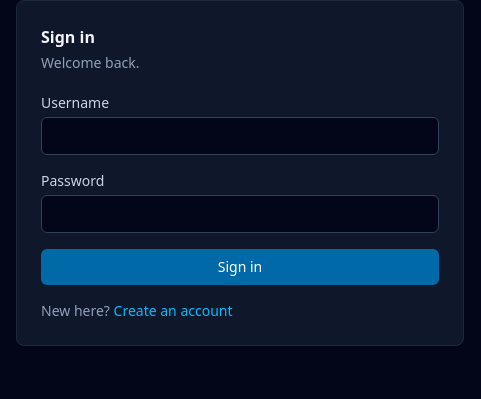
Scenario: AuthScreen › shows a server-unreachable error when the request throws
Type "alice" into the field labelled "Username" at (240,136), box [41,117,439,155]
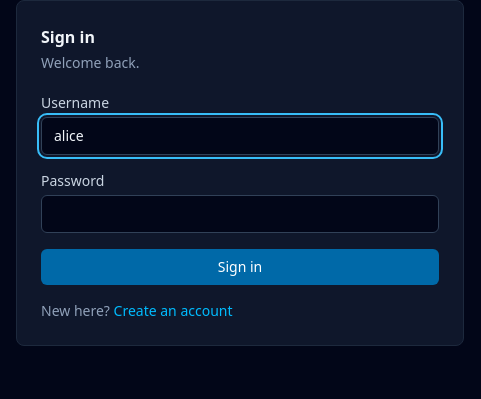
Type "long-enough-password" into the password field labelled "Password" at (240,214), box [41,195,439,233]
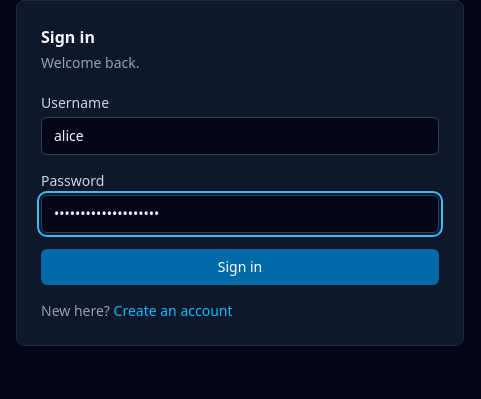
Click the button "Sign in" at (240,267), box [41,249,439,285]
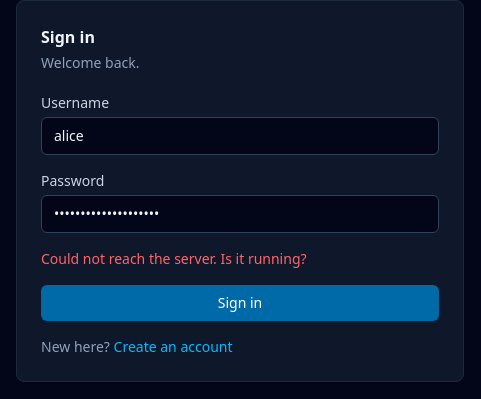
Check: the message shows "Could not reach the server", box [41,249,307,268]
